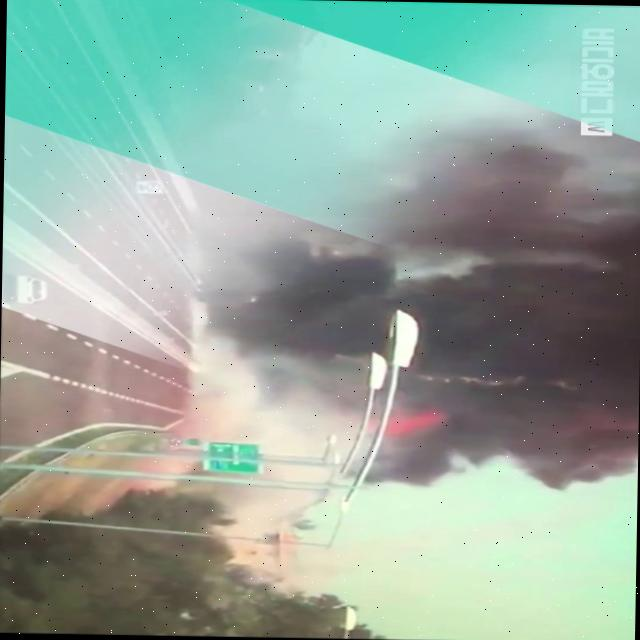explosion: (133, 131, 640, 494)
